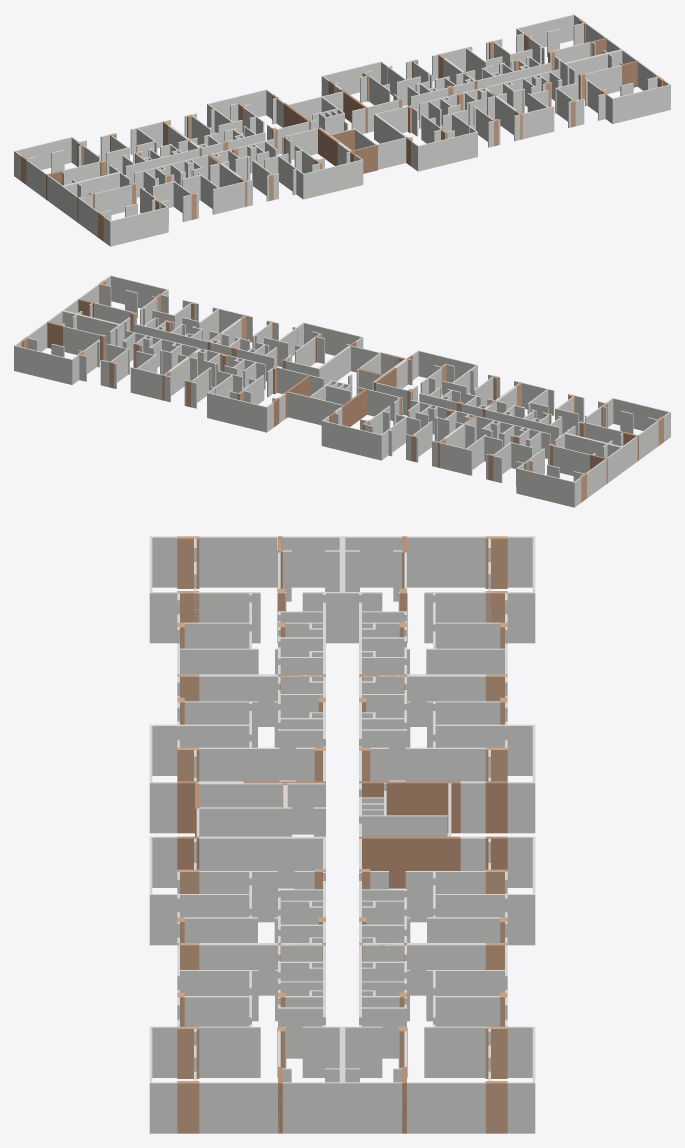
The model's file is saraclar-plan.glb.
The picture shows the model from 3 angles, top to bottom: view 1: azimuth 30°, elevation 25°; view 2: azimuth 150°, elevation 25°; view 3: azimuth 270°, elevation 25°; orthographic projection. The views are drawn at different scales.
Visible parts, largest first — view 1: architecture::Kaynak plan::Duvar_BC3A_0, architecture::Kaynak plan::Duvar_5969_0, architecture::Kaynak plan::Duvar_B23_0, architecture::Kaynak plan::Duvar_6F0B_0, architecture::Kaynak plan::Duvar_3E73_0, architecture::Kaynak plan::Duvar_AE3_0, architecture::Kaynak plan::Duvar_28DF_0, architecture::Kaynak plan::Duvar_D1C0_0, architecture::Kaynak plan::Duvar_8A15_0, architecture::Kaynak plan::Duvar_D62C_0, architecture::Kaynak plan::Duvar_6EFD_0, architecture::Kaynak plan::Duvar_5C8F_0 (+30 smaller); view 2: architecture::Kaynak plan::Duvar_8A15_0, architecture::Kaynak plan::Duvar_28DF_0, architecture::Kaynak plan::Duvar_AE3_0, architecture::Kaynak plan::Duvar_3E73_0, architecture::Kaynak plan::Duvar_6F0B_0, architecture::Kaynak plan::Duvar_B23_0, architecture::Kaynak plan::Duvar_5969_0, architecture::Kaynak plan::Duvar_9F9B_0, architecture::Kaynak plan::Duvar_BC3A_0, architecture::Kaynak plan::Duvar_D62C_0, architecture::Kaynak plan::Duvar_3E65_0, architecture::Kaynak plan::Duvar_2C05_0 (+28 smaller); view 3: architecture::Kaynak plan::Duvar_3EDD_0, architecture::Kaynak plan::Duvar_6F75_0, architecture::Kaynak plan::Duvar_A005_0, architecture::Kaynak plan::Duvar_D22A_0, architecture::Kaynak plan::Duvar_46AF_0, structural::Kaynak plan::Panel_A865_0, architecture::Kaynak plan::Duvar_2F9_0, architecture::Kaynak plan::Duvar_2C13_0, architecture::Kaynak plan::Duvar_5C9D_1, architecture::Kaynak plan::Duvar_A73_0, architecture::Kaynak plan::Duvar_A65_0, structural::Kaynak plan::Panel_A855_0 (+70 smaller).
Part boxes in pixels (left/top/right/bottom): architecture::Kaynak plan::Duvar_BC3A_0: left=303, top=159, right=363, bottom=199; architecture::Kaynak plan::Duvar_5969_0: left=418, top=131, right=477, bottom=171; architecture::Kaynak plan::Duvar_B23_0: left=110, top=207, right=168, bottom=246; architecture::Kaynak plan::Duvar_6F0B_0: left=612, top=84, right=670, bottom=123; architecture::Kaynak plan::Duvar_3E73_0: left=516, top=14, right=574, bottom=47; architecture::Kaynak plan::Duvar_AE3_0: left=15, top=137, right=71, bottom=169; architecture::Kaynak plan::Duvar_28DF_0: left=322, top=61, right=381, bottom=94; architecture::Kaynak plan::Duvar_D1C0_0: left=94, top=184, right=131, bottom=214; architecture::Kaynak plan::Duvar_8A15_0: left=208, top=89, right=266, bottom=119; architecture::Kaynak plan::Duvar_D62C_0: left=353, top=137, right=406, bottom=169; architecture::Kaynak plan::Duvar_6EFD_0: left=585, top=65, right=621, bottom=93; architecture::Kaynak plan::Duvar_5C8F_0: left=522, top=107, right=548, bottom=139; architecture::Kaynak plan::Duvar_8A15_0: left=321, top=420, right=381, bottom=460; architecture::Kaynak plan::Duvar_28DF_0: left=207, top=392, right=266, bottom=432; architecture::Kaynak plan::Duvar_AE3_0: left=516, top=468, right=574, bottom=507; architecture::Kaynak plan::Duvar_3E73_0: left=14, top=345, right=72, bottom=384; architecture::Kaynak plan::Duvar_6F0B_0: left=110, top=275, right=168, bottom=308; architecture::Kaynak plan::Duvar_B23_0: left=613, top=398, right=669, bottom=430; architecture::Kaynak plan::Duvar_5969_0: left=303, top=322, right=362, bottom=355; architecture::Kaynak plan::Duvar_9F9B_0: left=553, top=445, right=590, bottom=475; architecture::Kaynak plan::Duvar_BC3A_0: left=418, top=350, right=476, bottom=380; architecture::Kaynak plan::Duvar_D62C_0: left=351, top=345, right=405, bottom=374; architecture::Kaynak plan::Duvar_3E65_0: left=63, top=326, right=99, bottom=354; architecture::Kaynak plan::Duvar_2C05_0: left=136, top=368, right=162, bottom=400; architecture::Kaynak plan::Duvar_3EDD_0: left=404, top=1082, right=485, bottom=1133; architecture::Kaynak plan::Duvar_6F75_0: left=199, top=1082, right=280, bottom=1133; architecture::Kaynak plan::Duvar_A005_0: left=407, top=536, right=485, bottom=587; architecture::Kaynak plan::Duvar_D22A_0: left=199, top=536, right=277, bottom=587; architecture::Kaynak plan::Duvar_46AF_0: left=199, top=836, right=303, bottom=888; structural::Kaynak plan::Panel_A865_0: left=359, top=836, right=460, bottom=888; architecture::Kaynak plan::Duvar_2F9_0: left=199, top=783, right=325, bottom=834; architecture::Kaynak plan::Duvar_2C13_0: left=424, top=1026, right=489, bottom=1077; architecture::Kaynak plan::Duvar_5C9D_1: left=199, top=1026, right=260, bottom=1077; architecture::Kaynak plan::Duvar_A73_0: left=282, top=1082, right=342, bottom=1133; architecture::Kaynak plan::Duvar_A65_0: left=342, top=1082, right=402, bottom=1133; structural::Kaynak plan::Panel_A855_0: left=359, top=781, right=460, bottom=833.
Bounding box in the file's own units: 70.15 × 3 × 20.9.
